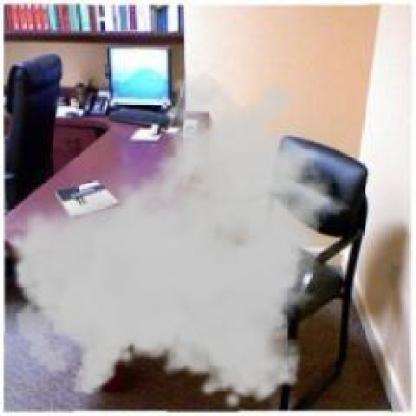Smoke: (5, 71, 362, 411)
